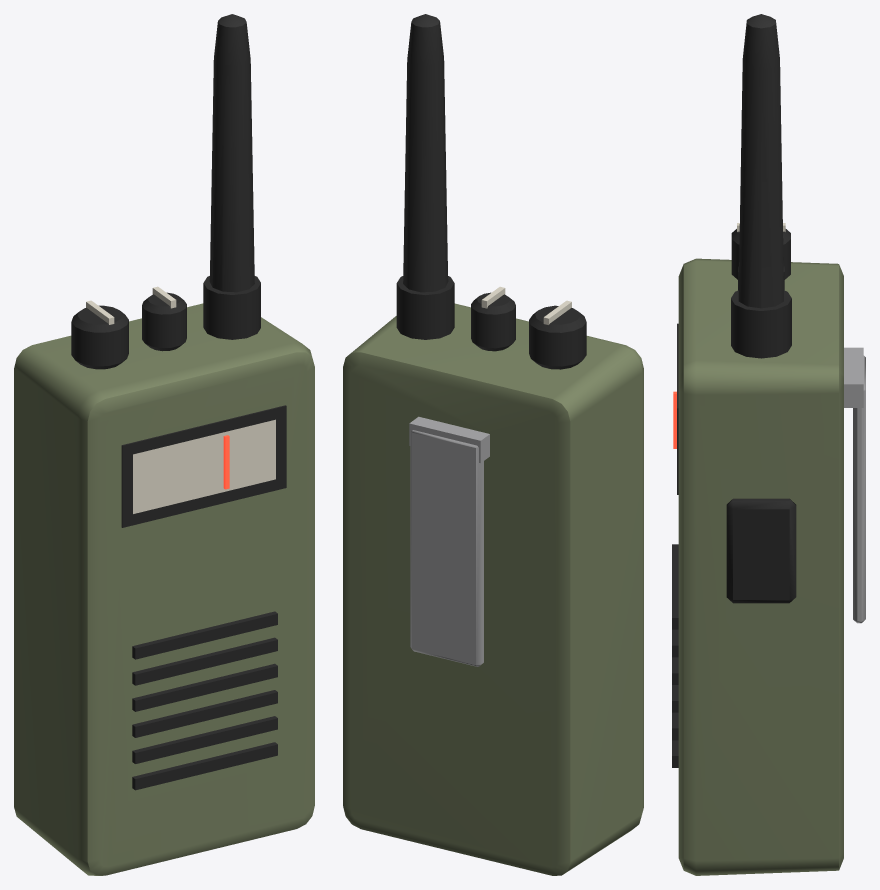
File: radio.glb
3 renders of one model, left to right at view 1: azimuth 30°, elevation 25°; view 2: azimuth 150°, elevation 25°; view 3: azimuth 270°, elevation 25°, orthographic. The views are drawn at different scales.
Visible parts, largest first — view 1: body, window; view 2: body; view 3: body, window.
Part boxes in pixels (<box>): body: <box>14,14,314,875</box>; window: <box>121,405,286,527</box>; body: <box>343,14,643,875</box>; body: <box>672,14,865,875</box>; window: <box>673,323,678,494</box>.
Size of the model in its own units: 0.069 by 0.214 by 0.0445.
